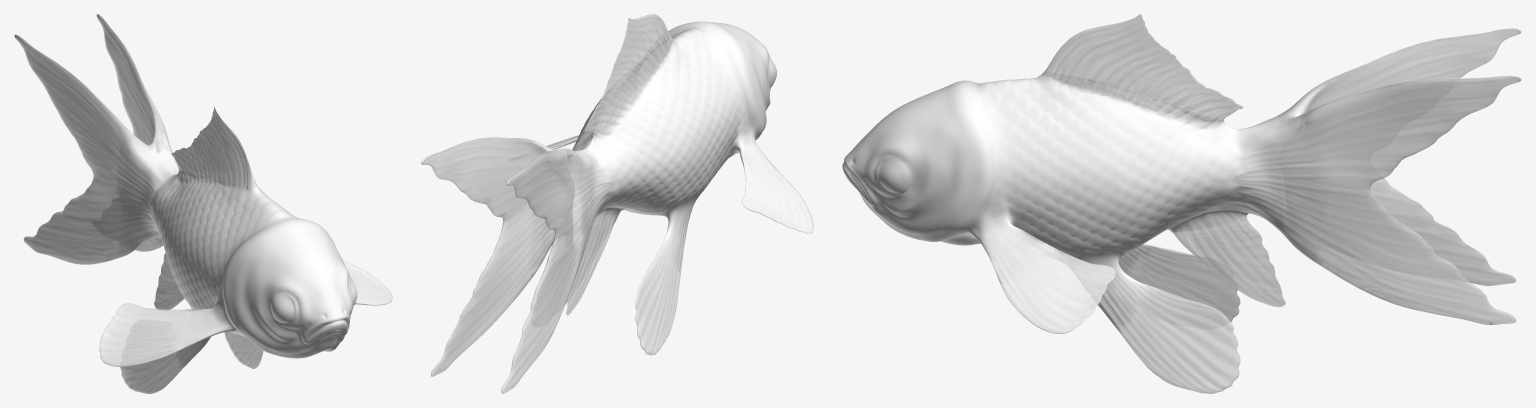
File: koi_test.glb
3 views of the same model, side by side, from view 1: azimuth 30°, elevation 25°; view 2: azimuth 150°, elevation 25°; view 3: azimuth 270°, elevation 25° (orthographic). The views are drawn at different scales.
Visible parts, largest first — view 1: Koi Test; view 2: Koi Test; view 3: Koi Test.
Boxes of the visible parts, left/top/right/bottom form: Koi Test: left=14, top=14, right=392, bottom=393; Koi Test: left=421, top=14, right=813, bottom=393; Koi Test: left=842, top=14, right=1521, bottom=393.
Size of the model in its own units: 1.17 by 1.13 by 2.
1 material, 1 textured.
